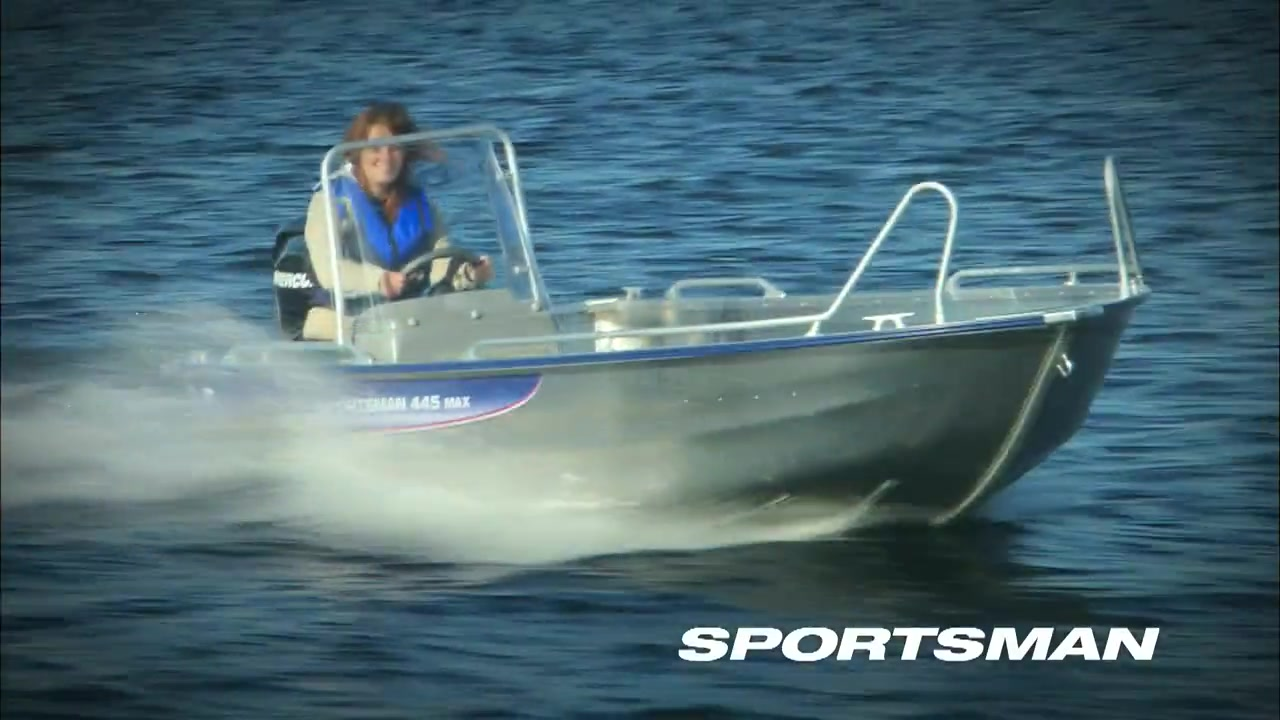boat: (147, 121, 1152, 542)
